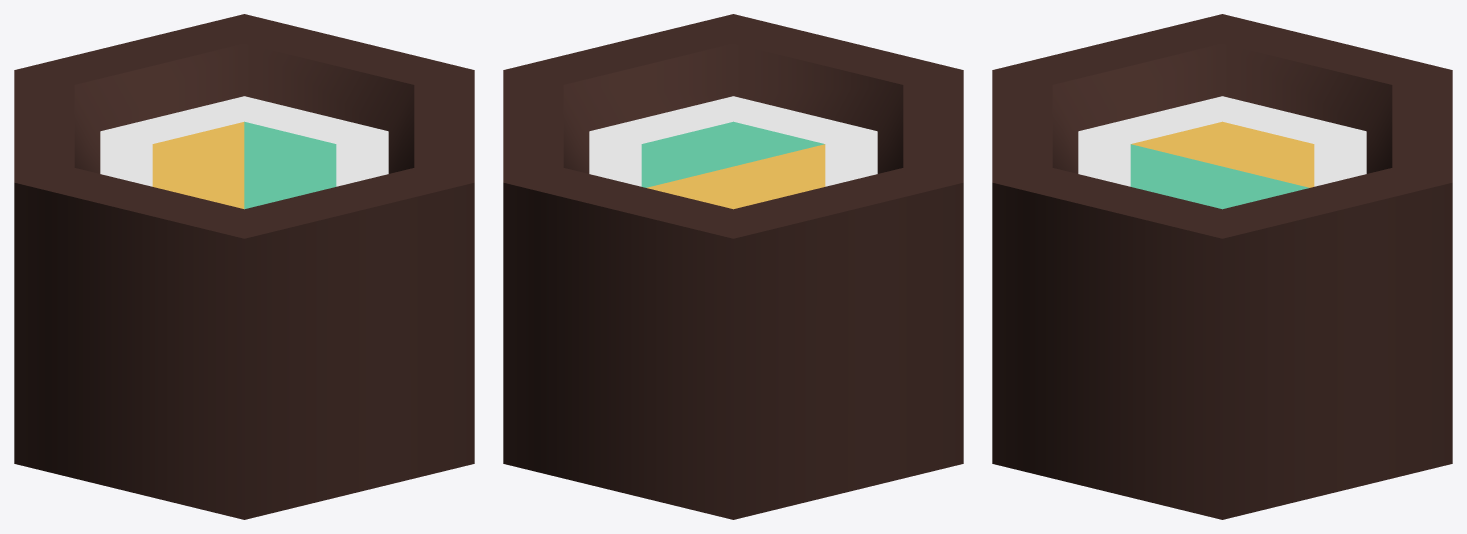
The model's file is makiVegetable.GLB.
3 views of the same model, side by side, from view 1: azimuth 30°, elevation 25°; view 2: azimuth 150°, elevation 25°; view 3: azimuth 270°, elevation 25° (orthographic).
Visible parts, largest first — view 1: makiVegetable; view 2: makiVegetable; view 3: makiVegetable.
Part boxes in pixels (x1=…): makiVegetable: x1=14, y1=14, x2=474, y2=519; makiVegetable: x1=503, y1=14, x2=963, y2=519; makiVegetable: x1=992, y1=14, x2=1452, y2=519.
Bounding box in the file's own units: 0.12 × 0.07 × 0.1039.
